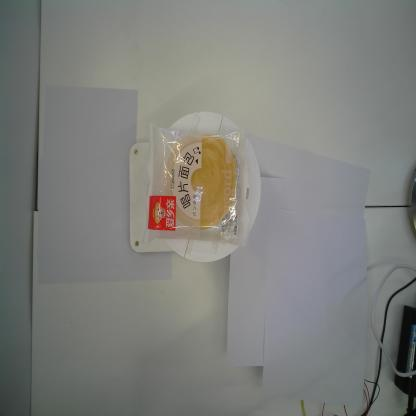Dessert: (140, 119, 250, 249)
